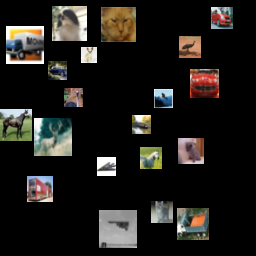airplane: (99, 210, 137, 248), (97, 157, 116, 176)
automobile: (190, 69, 219, 98), (211, 7, 233, 29), (48, 61, 67, 80)
bird: (179, 36, 201, 58), (64, 88, 83, 107), (154, 89, 173, 108)
cat: (101, 7, 136, 42), (178, 138, 204, 164), (151, 201, 173, 223)
deer: (34, 118, 72, 156)
dog: (52, 6, 87, 41), (81, 47, 97, 63)
ship: (132, 115, 151, 134)
